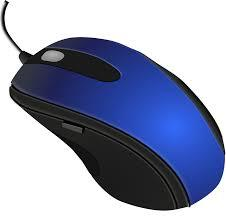mouse: (8, 34, 226, 215)
